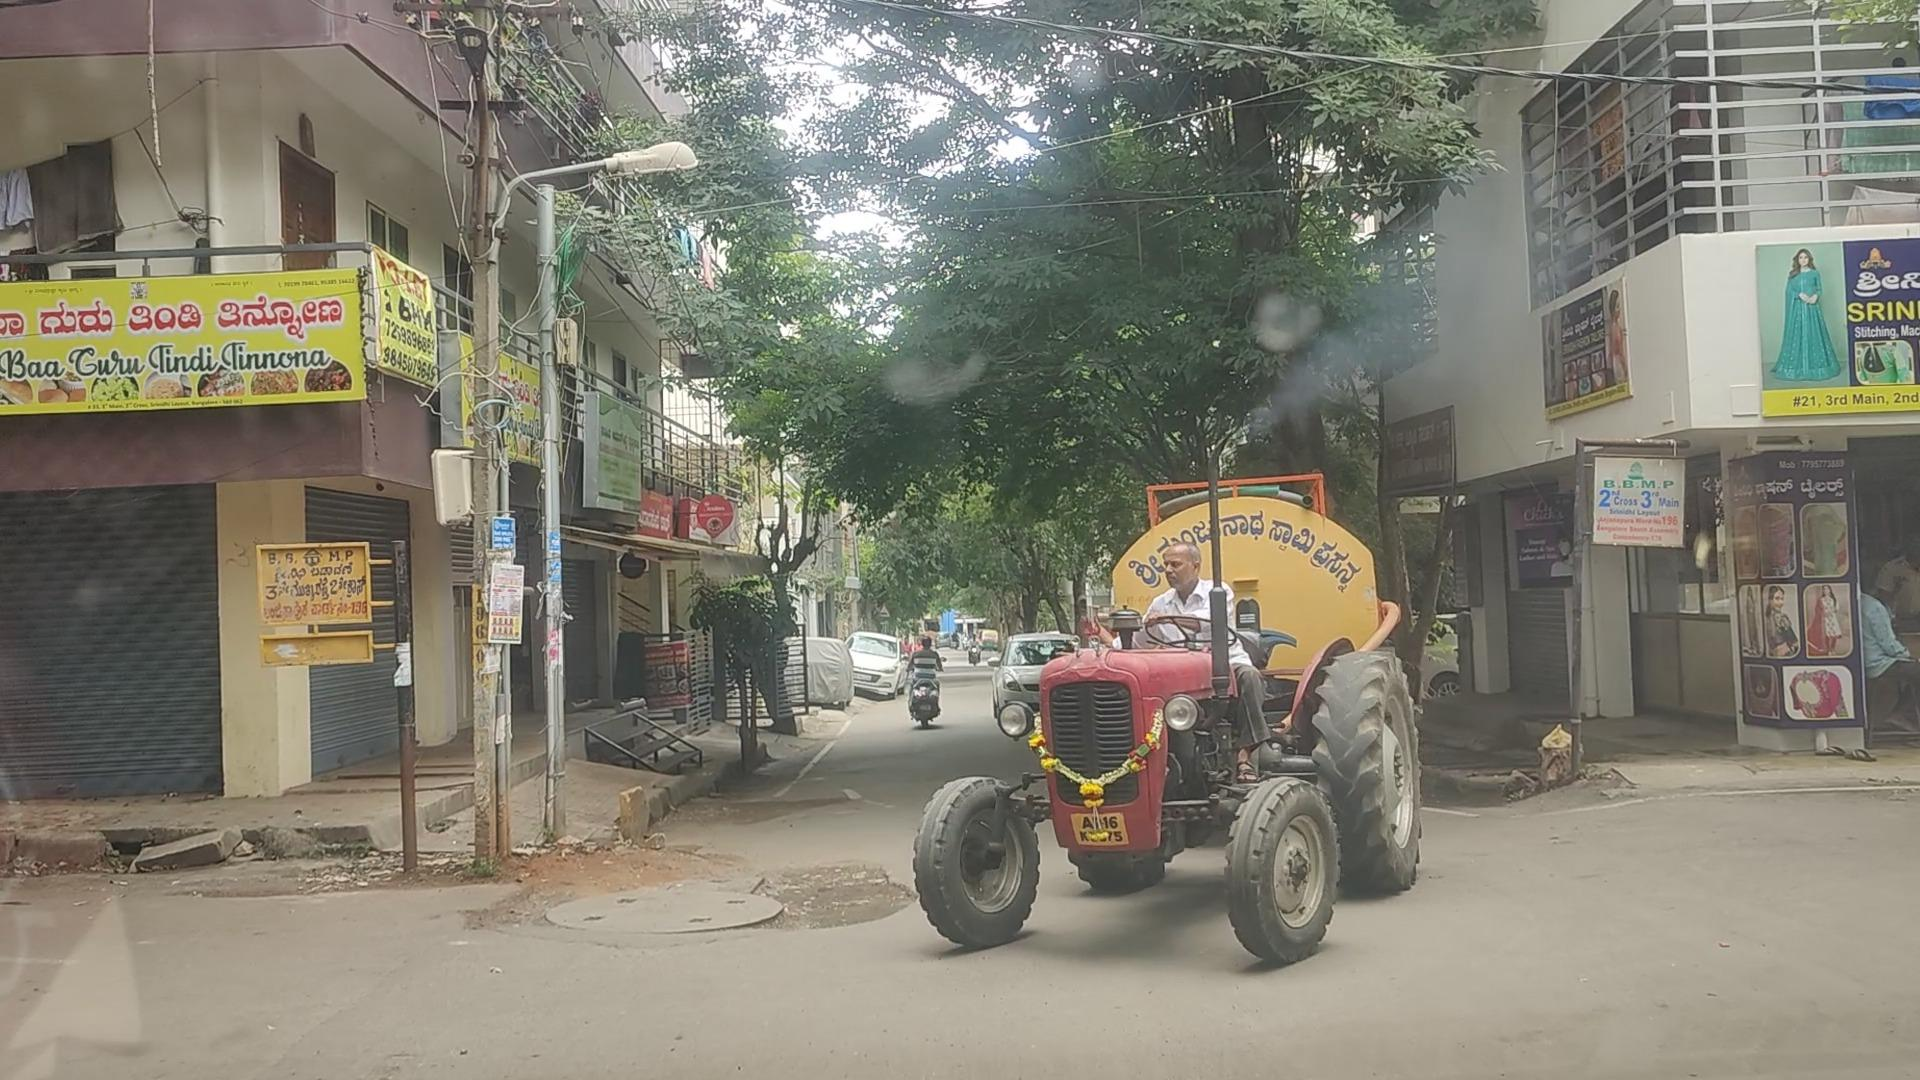HMV: (948, 497, 1390, 957)
RoadDamages: (562, 853, 919, 943)
